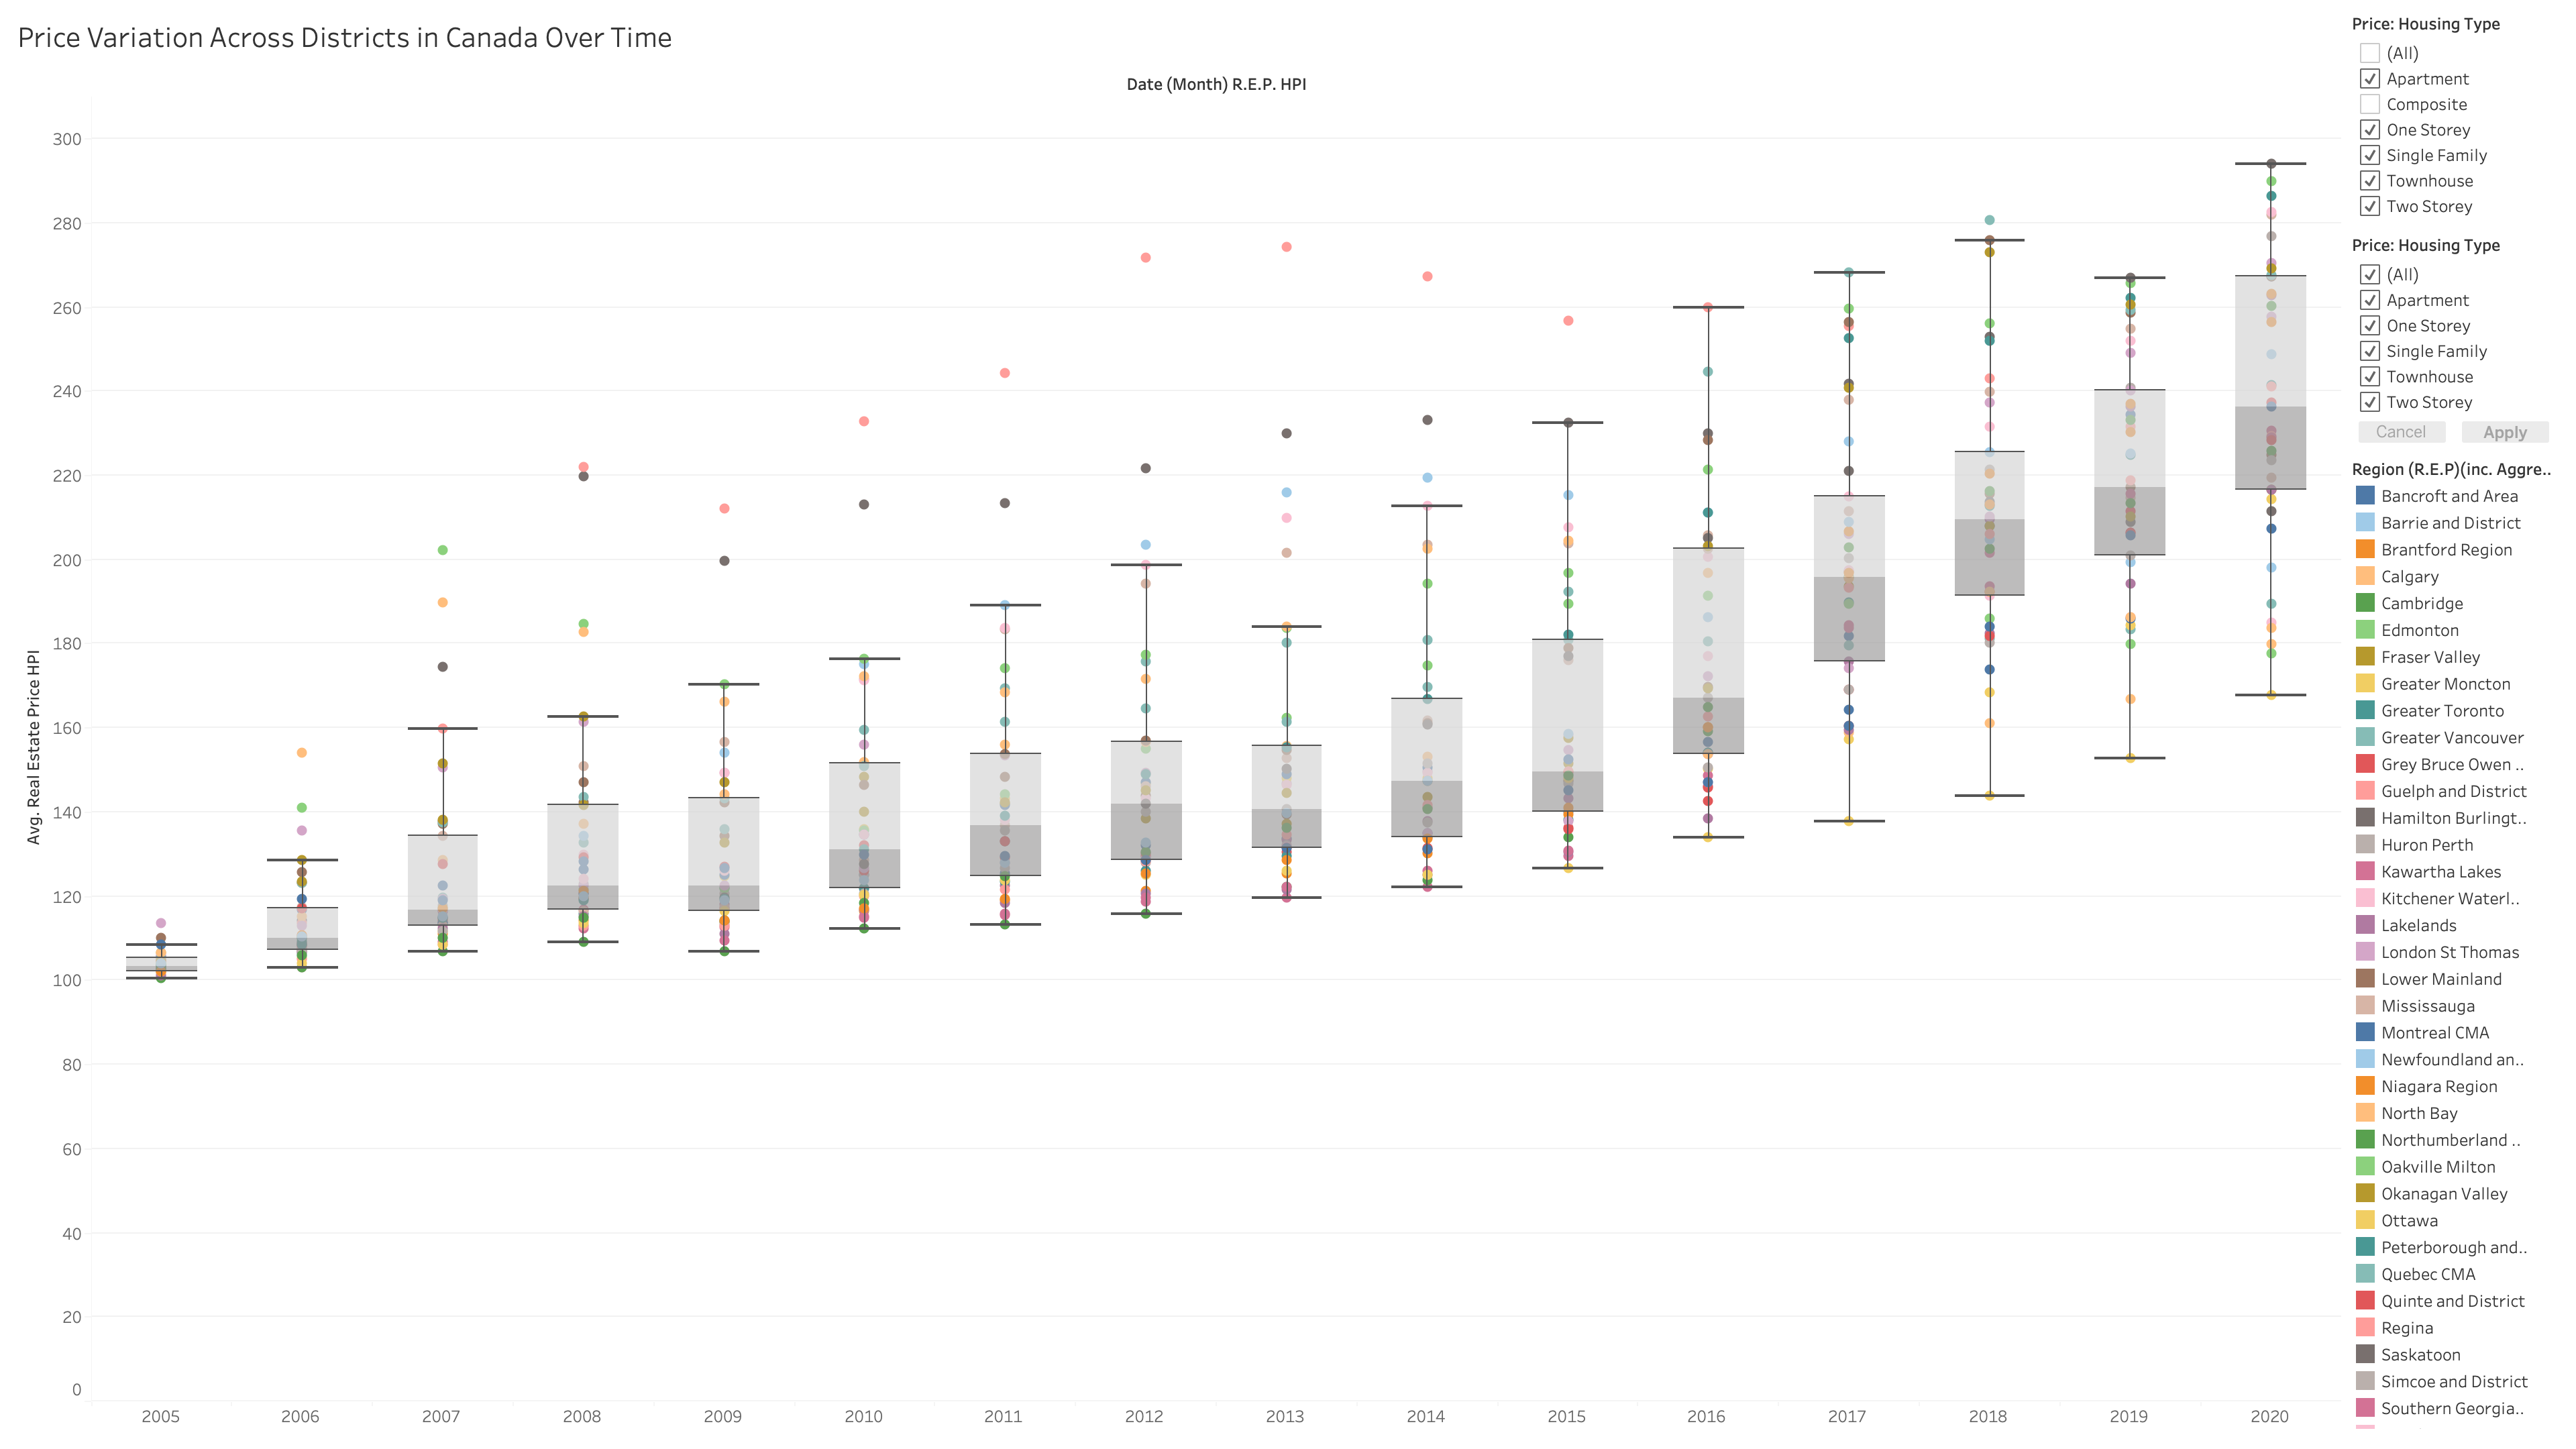

Layout of this report page (visuals, bound fields, positions):
{"tool":"tableau","page":{"name":"Dashboard Q5","canvas":[1920,1080],"ordinal":6},"visuals":[{"type":"worksheet","title":"Price Variation Across Districts in Canada Over Time","mark":"Circle","rows":["Real Estate Price HPI"],"cols":["Date (Month) R.E.P. HPI"],"box":[8,8,1744,1064]},{"type":"blank","box":[1752,8,160,165]},{"type":"setMembership","title":"Price Variation Across Districts in Canada Over Time","param":"[federated.0h3vvpx1g9mxug19i74591ak7h1p].[Housing Type (R.E.P.) HPI Set]","box":[1752,8,160,165]},{"type":"filter","title":"Price Variation Across Districts in Canada Over Time","param":"[federated.0h3vvpx1g9mxug19i74591ak7h1p].[Housing Type (R.E.P.) HPI Set]","box":[1752,173,160,167]},{"type":"legend","title":"Price Variation Across Districts in Canada Over Time","param":"[federated.0h3vvpx1g9mxug19i74591ak7h1p].[none:Region (R.E.P)(inc. Aggregate) HP","box":[1752,340,160,732]}]}

Visuals, with their boxes in screenshot pixels (x1, y1, x2, y2), scaled from the page's 1920x1080 canvas onto the 2576x1449 screenshot:
"Price Variation Across Districts in Canada Over Time" worksheet (Circle marks): [11, 11, 2351, 1438]
blank: [2351, 11, 2565, 232]
"Price Variation Across Districts in Canada Over Time" setMembership: [2351, 11, 2565, 232]
"Price Variation Across Districts in Canada Over Time" filter: [2351, 232, 2565, 456]
"Price Variation Across Districts in Canada Over Time" legend: [2351, 456, 2565, 1438]
